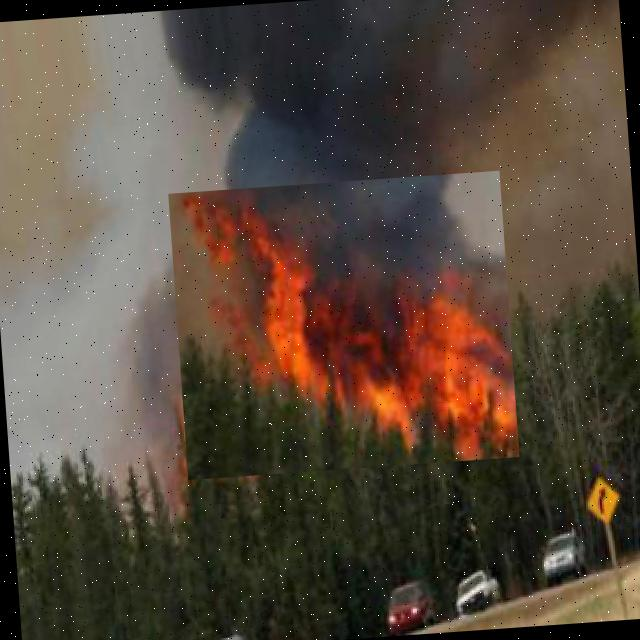fire: (168, 170, 519, 480)
